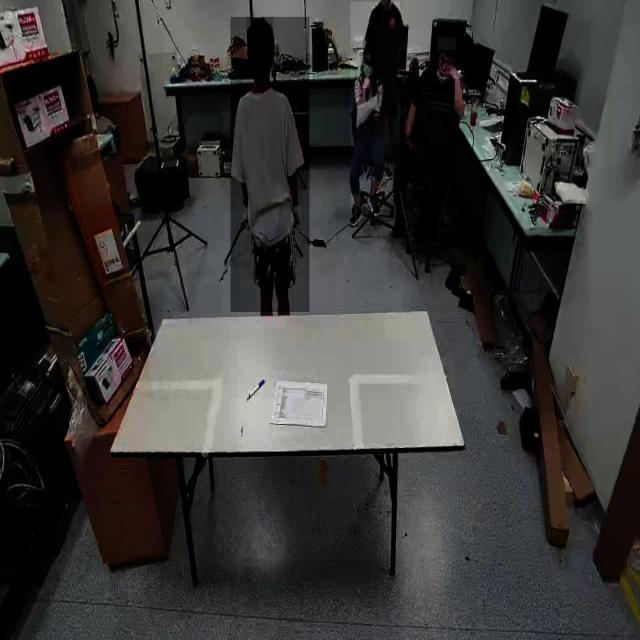face_mask: (362, 57, 378, 79)
hand_noglove: (404, 134, 422, 156), (446, 65, 462, 80), (362, 74, 371, 89)
head_nohelmet: (246, 17, 274, 40), (438, 37, 456, 51), (363, 39, 375, 56)
person: (230, 17, 310, 313), (350, 2, 400, 224), (410, 30, 468, 166), (362, 0, 406, 119)
shoes: (365, 185, 382, 218)
